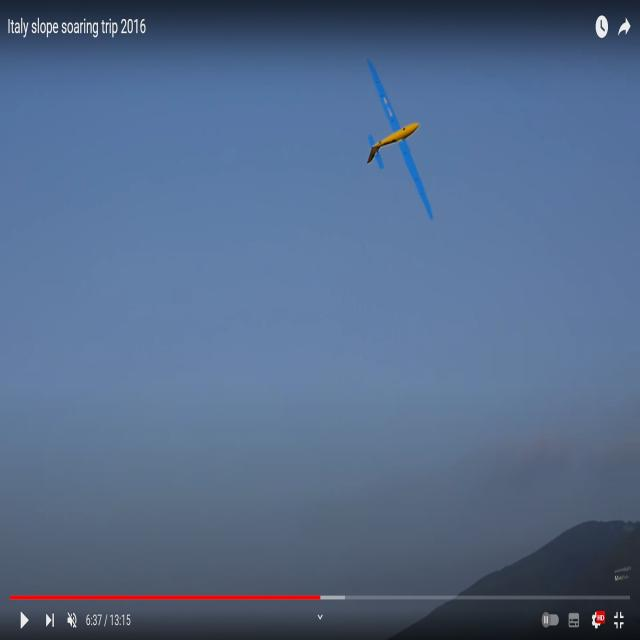iha: (396, 55, 401, 212)
